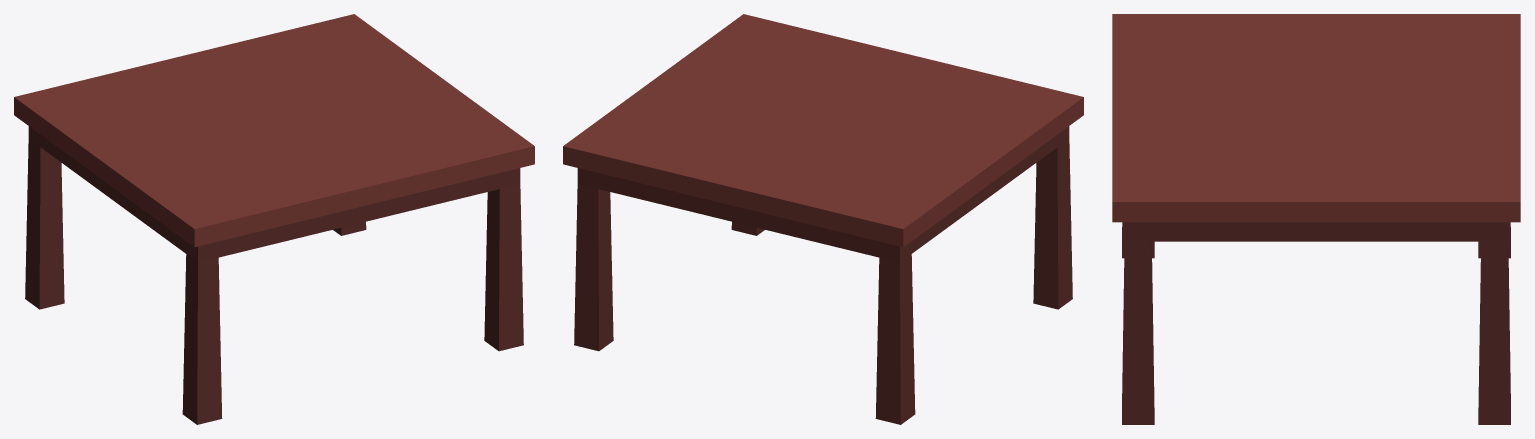
Rendered from quaternius-furniture-table.glb.
3 views of the same model, side by side, from view 1: azimuth 30°, elevation 25°; view 2: azimuth 150°, elevation 25°; view 3: azimuth 270°, elevation 25° (orthographic). The views are drawn at different scales.
Visible parts, largest first — view 1: Table; view 2: Table; view 3: Table.
Boxes of the visible parts, box(x1,y1,x2,y2) form: Table: box(14, 14, 534, 424); Table: box(563, 14, 1083, 424); Table: box(1112, 14, 1520, 424).
Size of the model in its own units: 1.11 by 0.6228 by 1.02.
